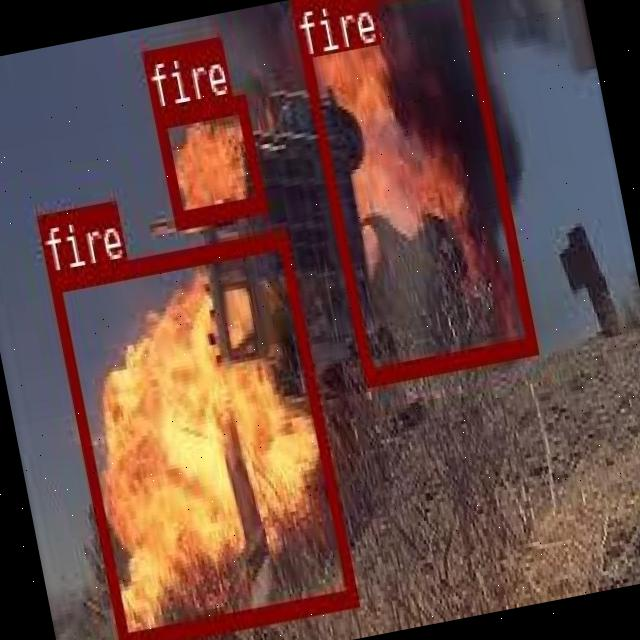fire: (47, 229, 357, 640), (289, 0, 536, 384), (154, 94, 264, 225)
